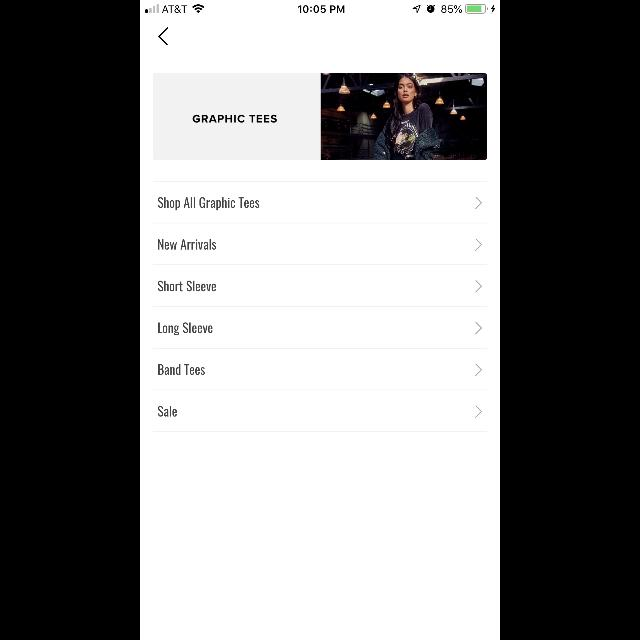icon: (158, 27, 168, 45), (474, 322, 482, 334), (476, 406, 482, 418), (476, 364, 482, 376), (476, 280, 482, 292), (476, 239, 482, 251), (476, 197, 482, 209)
image: (321, 74, 487, 160)
text: (158, 198, 260, 210), (159, 322, 213, 336), (158, 280, 216, 292), (158, 238, 216, 250), (193, 115, 277, 123), (158, 364, 206, 376), (158, 406, 178, 416)
uppertaskbar: (140, 0, 500, 14)
